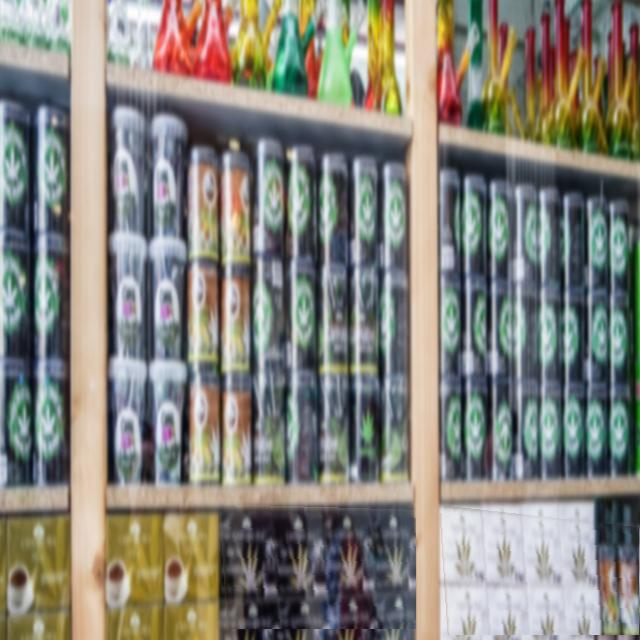Vapes: (439, 505, 639, 635), (219, 504, 416, 629)
